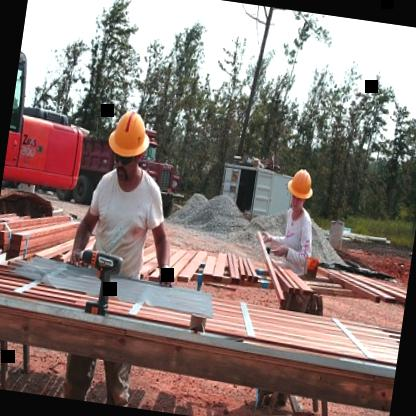helmet: (98, 101, 159, 180), (282, 160, 320, 218)
